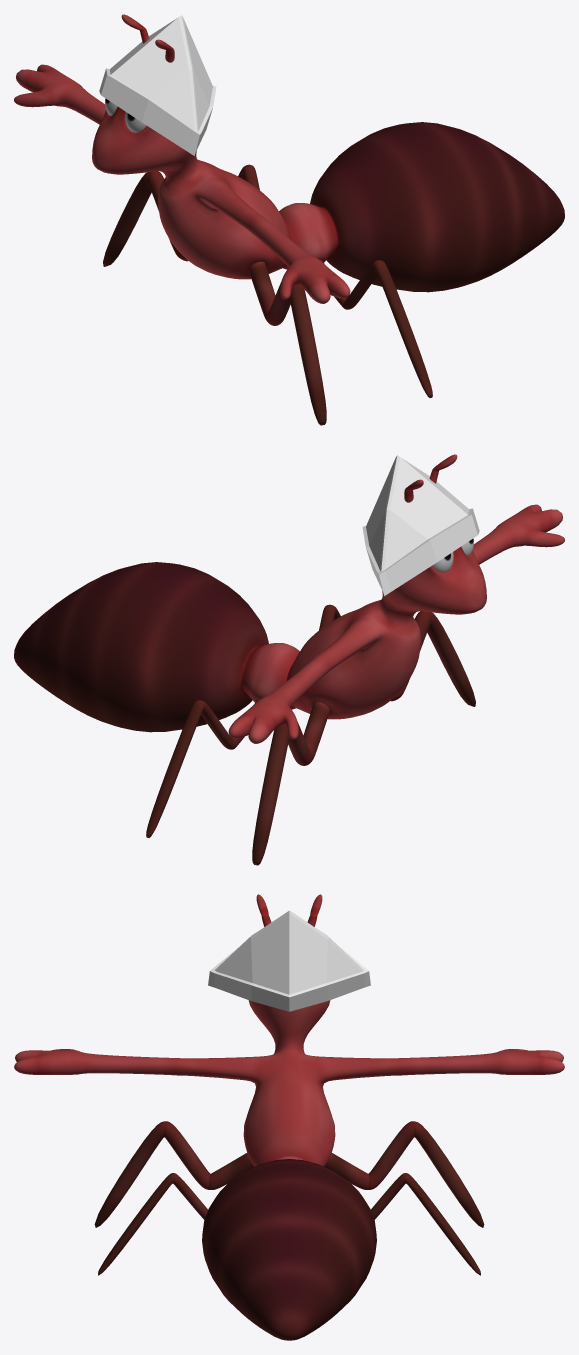
Rendered from paperhatv2.fbx.
3 renders of one model, top to bottom at view 1: azimuth 30°, elevation 25°; view 2: azimuth 150°, elevation 25°; view 3: azimuth 270°, elevation 25°, orthographic. The views are drawn at different scales.
Parts seen in each view (by area): view 1: Cube.001, Cube; view 2: Cube.001, Cube; view 3: Cube.001, Cube.
Boxes of the visible parts, x1=… form: Cube.001: x1=14, y1=14, x2=564, y2=425; Cube: x1=99, y1=15, x2=216, y2=155; Cube.001: x1=14, y1=454, x2=564, y2=865; Cube: x1=362, y1=455, x2=479, y2=595; Cube.001: x1=14, y1=894, x2=564, y2=1340; Cube: x1=208, y1=910, x2=370, y2=1011.
Bounding box in the file's own units: 571 × 396 × 653.
